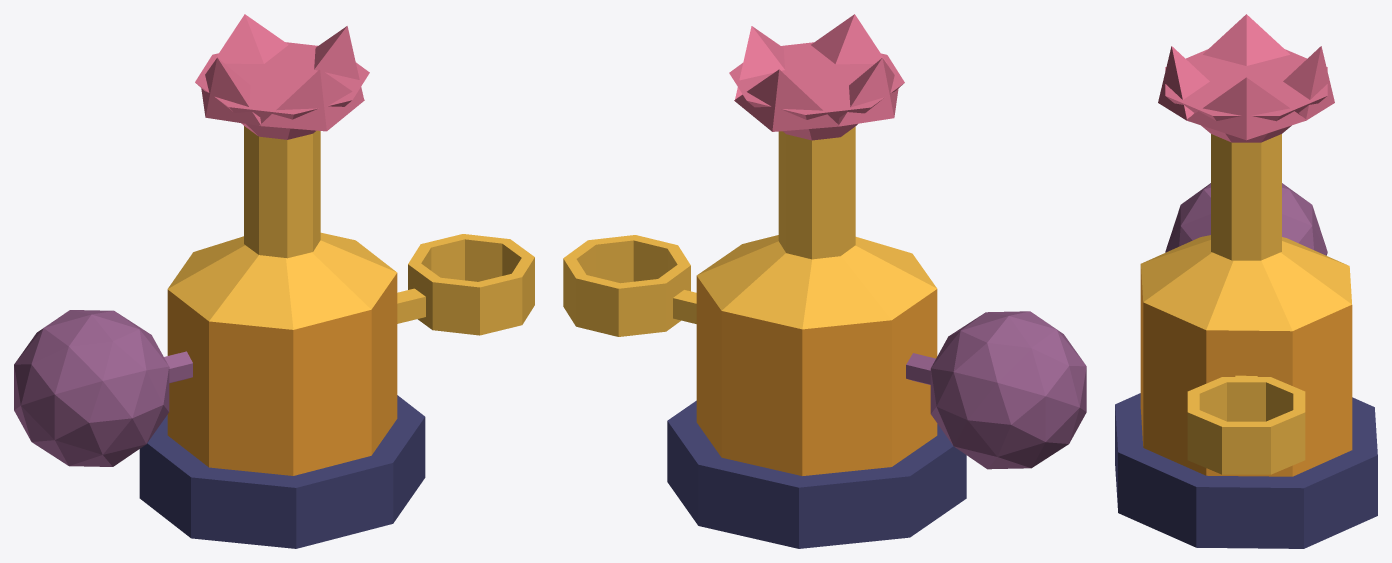
The model's file is puffer_splat.glb.
3 renders of one model, left to right at view 1: azimuth 30°, elevation 25°; view 2: azimuth 150°, elevation 25°; view 3: azimuth 270°, elevation 25°, orthographic.
Visible parts, largest first — view 1: Drum, Plinth, Bulb, Lid, Mouth, Cup, Barrel, Arm, Hose; view 2: Drum, Plinth, Bulb, Lid, Mouth, Cup, Barrel, Arm, Hose; view 3: Plinth, Drum, Lid, Mouth, Cup, Barrel, Bulb.
Boxes of the visible parts, x1,y1,x2,y2 form: Drum: (167,273,397,475); Plinth: (139,395,425,548); Bulb: (14,310,169,466); Lid: (168,232,397,329); Mouth: (195,14,369,139); Cup: (408,234,534,335); Barrel: (244,126,320,258); Arm: (397,288,425,323); Hose: (164,351,192,383); Drum: (696,276,937,475); Plinth: (667,400,966,548); Bulb: (930,311,1086,469); Lid: (697,235,937,329); Mouth: (729,14,904,140); Cup: (563,235,690,336); Barrel: (778,126,855,259); Arm: (673,290,696,323); Hose: (906,353,935,384); Plinth: (1115,393,1377,548); Drum: (1140,264,1352,476); Lid: (1141,235,1351,331); Mouth: (1158,14,1334,142); Cup: (1187,377,1305,474); Barrel: (1211,134,1281,260); Bulb: (1165,183,1327,255).
Bounding box in the file's own units: 2.84 × 2.41 × 1.29.
